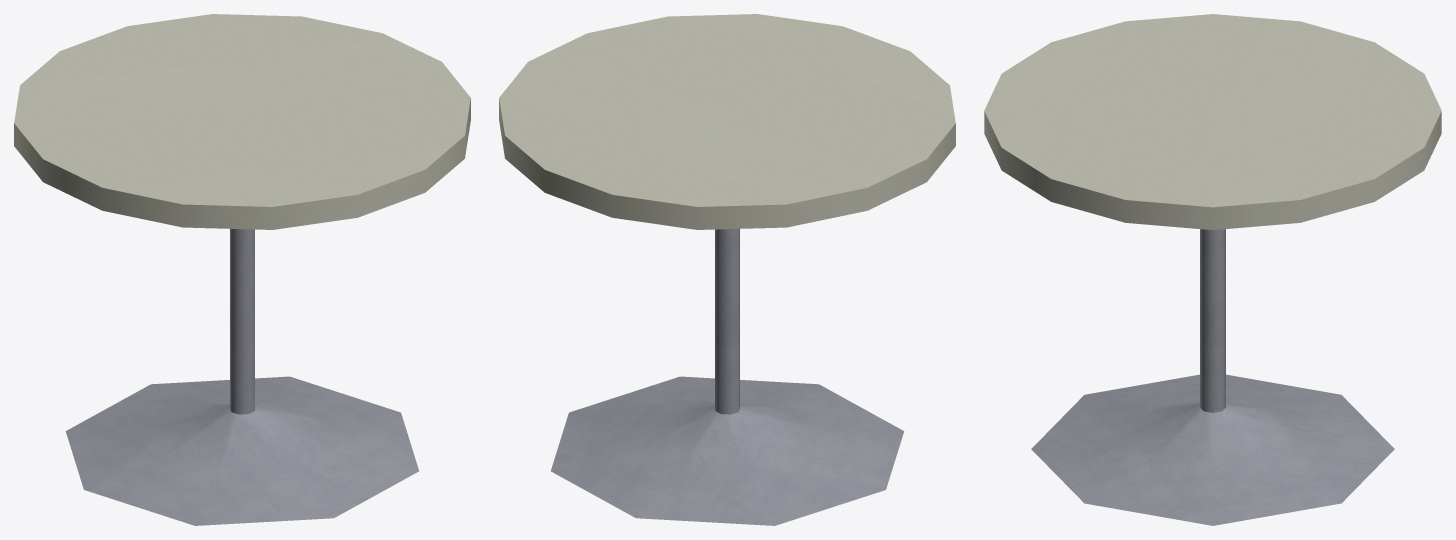
Rendered from LGSeocho25Table.fbx.
3 views of the same model, side by side, from view 1: azimuth 30°, elevation 25°; view 2: azimuth 150°, elevation 25°; view 3: azimuth 270°, elevation 25° (orthographic).
Visible parts, largest first — view 1: LGSeocho25Plastic, LGSeocho25Metal; view 2: LGSeocho25Plastic, LGSeocho25Metal; view 3: LGSeocho25Plastic, LGSeocho25Metal.
Boxes of the visible parts, x1,y1,x2,y2 form: LGSeocho25Plastic: (14, 14, 470, 229); LGSeocho25Metal: (65, 229, 418, 525); LGSeocho25Plastic: (499, 14, 955, 229); LGSeocho25Metal: (551, 229, 904, 525); LGSeocho25Plastic: (984, 14, 1441, 230); LGSeocho25Metal: (1031, 229, 1394, 525).
Bounding box in the file's own units: 90.67 × 74 × 90.67.
